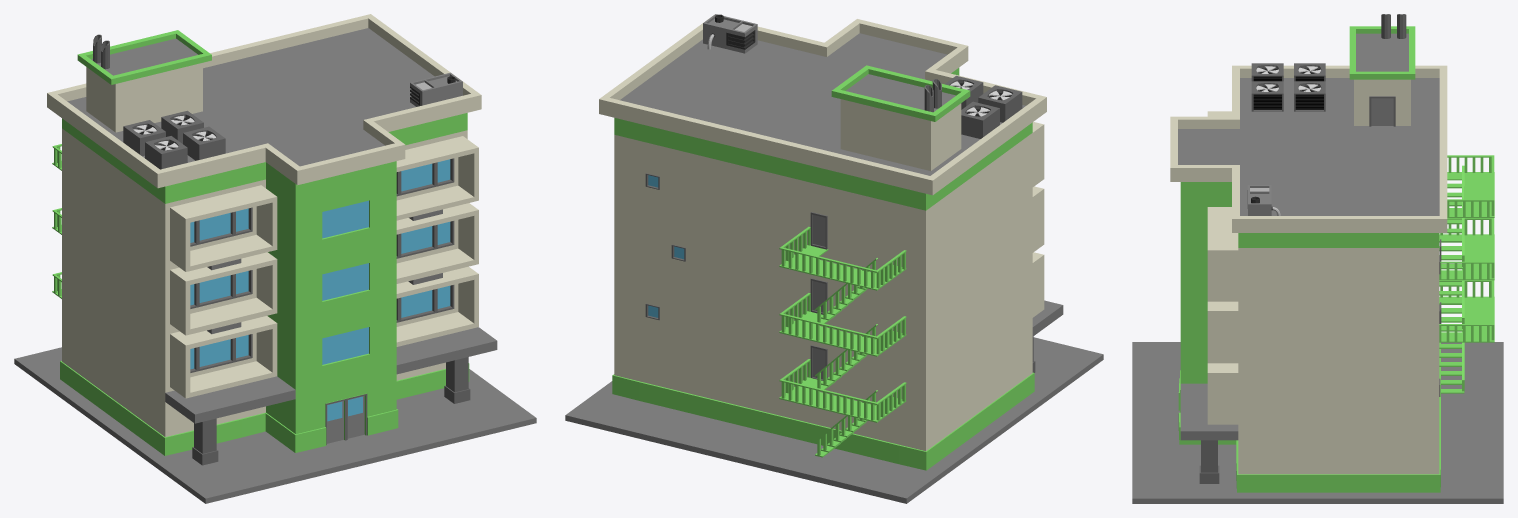
The model's file is GreenApartmentComplex.fbx.
The picture shows the model from 3 angles, left to right: view 1: azimuth 30°, elevation 25°; view 2: azimuth 150°, elevation 25°; view 3: azimuth 270°, elevation 25°; orthographic projection. The views are drawn at different scales.
Visible parts, largest first — view 1: GreenApartmentComplexMerged; view 2: GreenApartmentComplexMerged; view 3: GreenApartmentComplexMerged.
Part boxes in pixels (x1,y1,x2,y2): GreenApartmentComplexMerged: [14, 14, 536, 503]; GreenApartmentComplexMerged: [565, 14, 1103, 503]; GreenApartmentComplexMerged: [1132, 14, 1503, 503].
Bounding box in the file's own units: 700 × 725 × 700.
